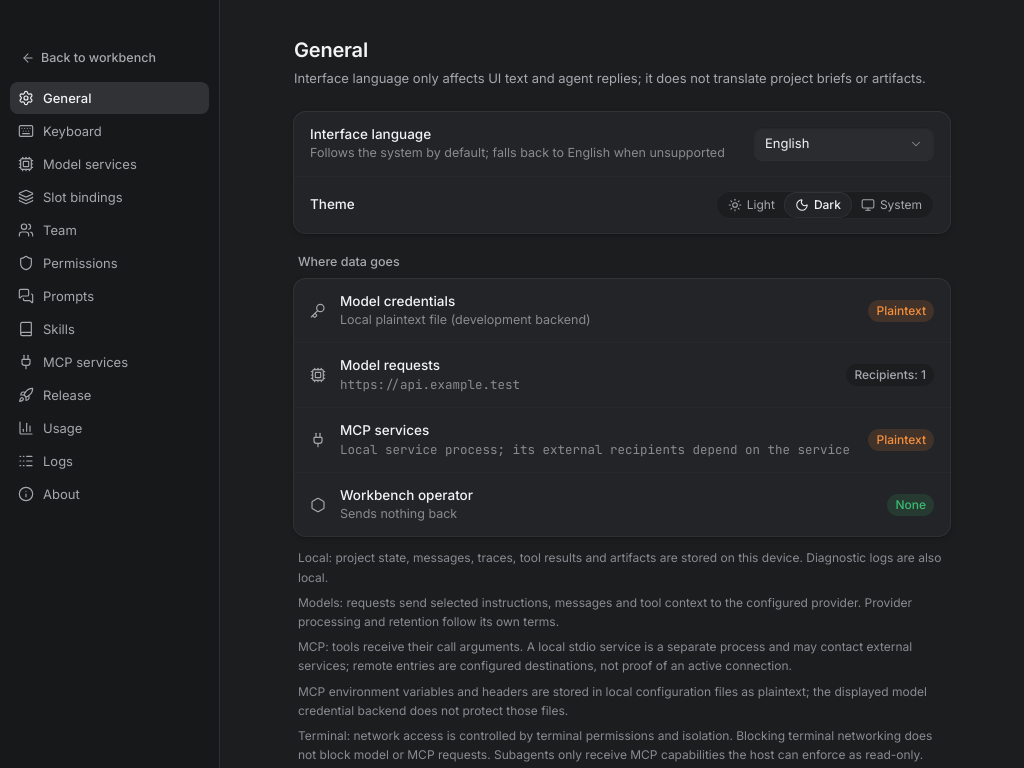
Scenario: offers a retry after list failure without claiming there are no skills
What coordinates should you click on to do the following:
click the button "Skills"
I would click on:
 (110, 329)
Its box is [10, 313, 209, 345].
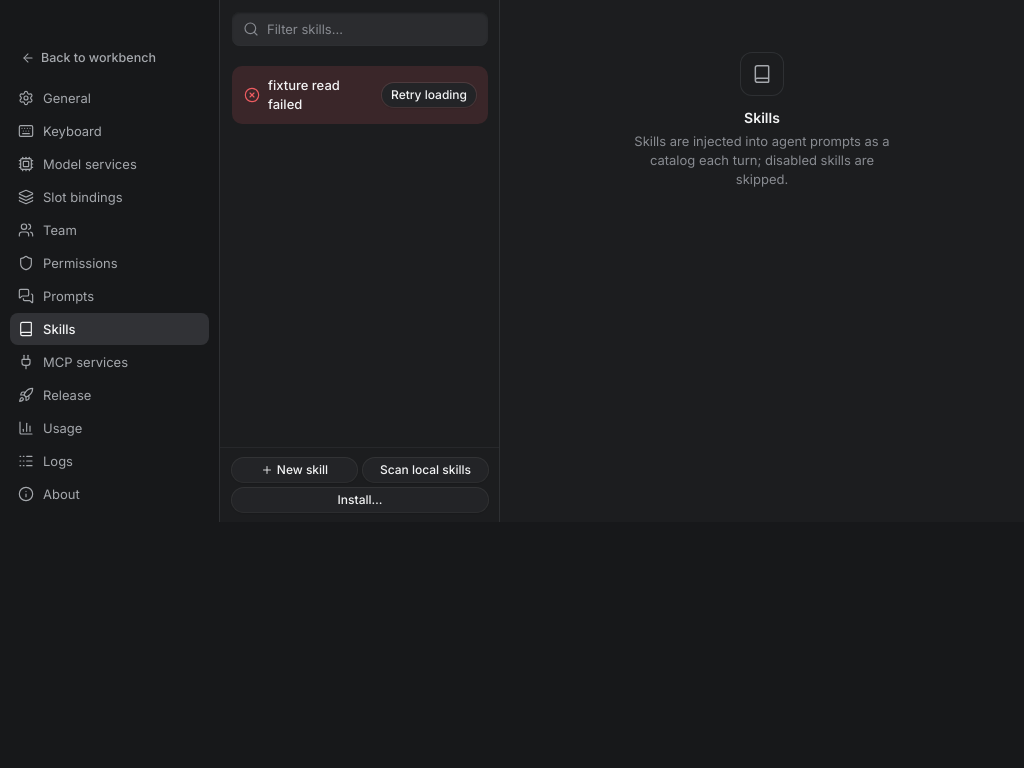
Check: the message "fixture read failed Retry loading" is shown, box [232, 66, 488, 124]
Check: the button "Retry loading" is shown
What coordinates should you click on to do the following:
click the button "Retry loading"
I would click on:
 (429, 95)
Its box is [382, 83, 476, 107].
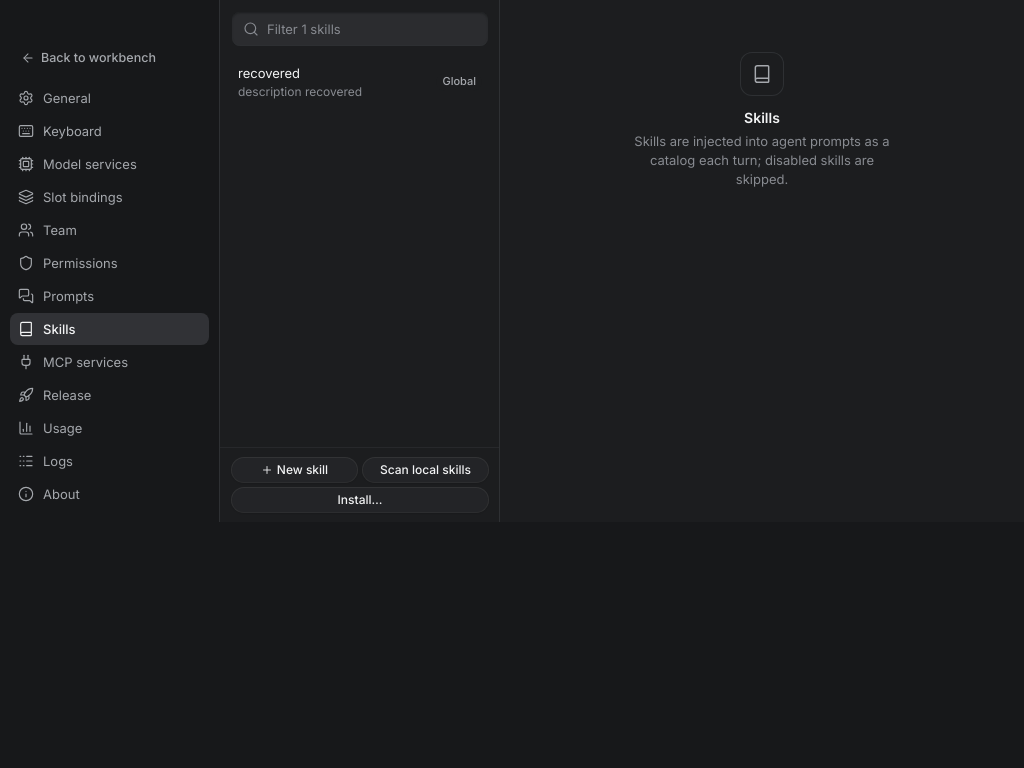
Check: the text "recovered" is shown, box [238, 65, 300, 81]
Check: the message "fixture read failed Retry loading" is gone
